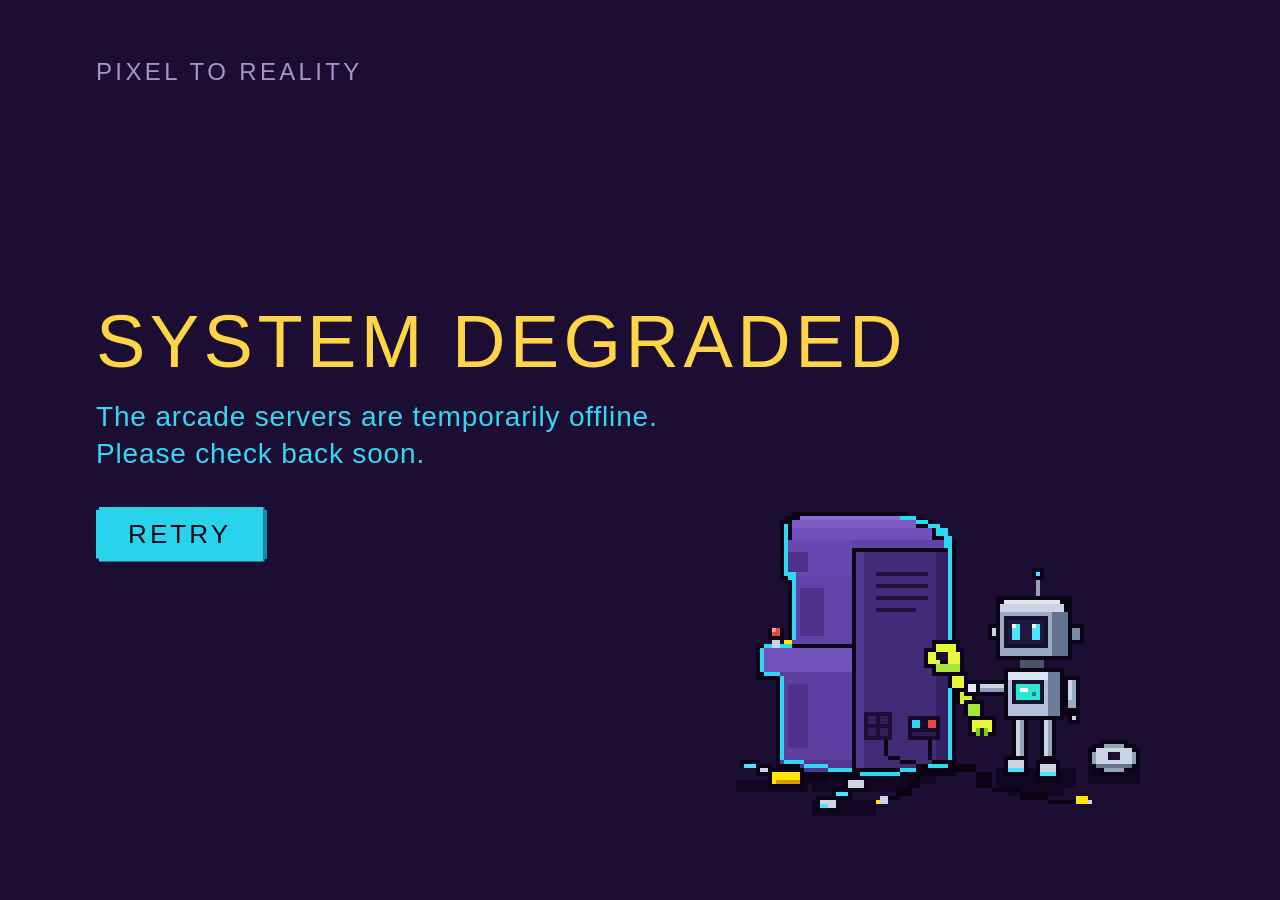
Test: Dual-State Pixel-Art Maintenance Experience › recovers automatically from System Degraded when /api/platform-status reports normal
Expected: the heading "SYSTEM DEGRADED" is shown, [96, 306, 724, 379]
Expected: the text "Konten Utama P2R" is not shown
Click the button "RETRY" at (182, 534), box [96, 507, 267, 562]
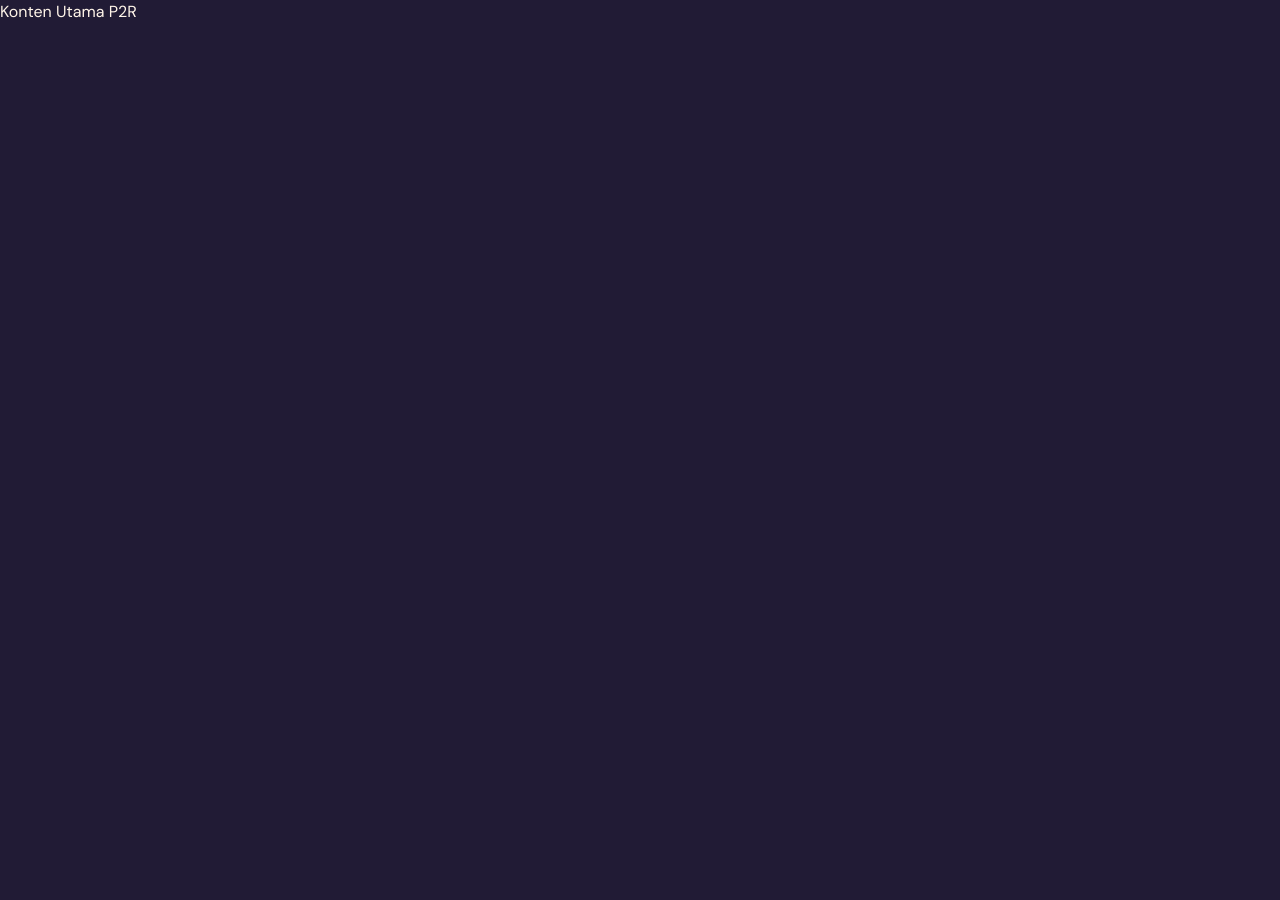
Result: the text "Konten Utama P2R" is shown at [0, 1, 137, 22]
